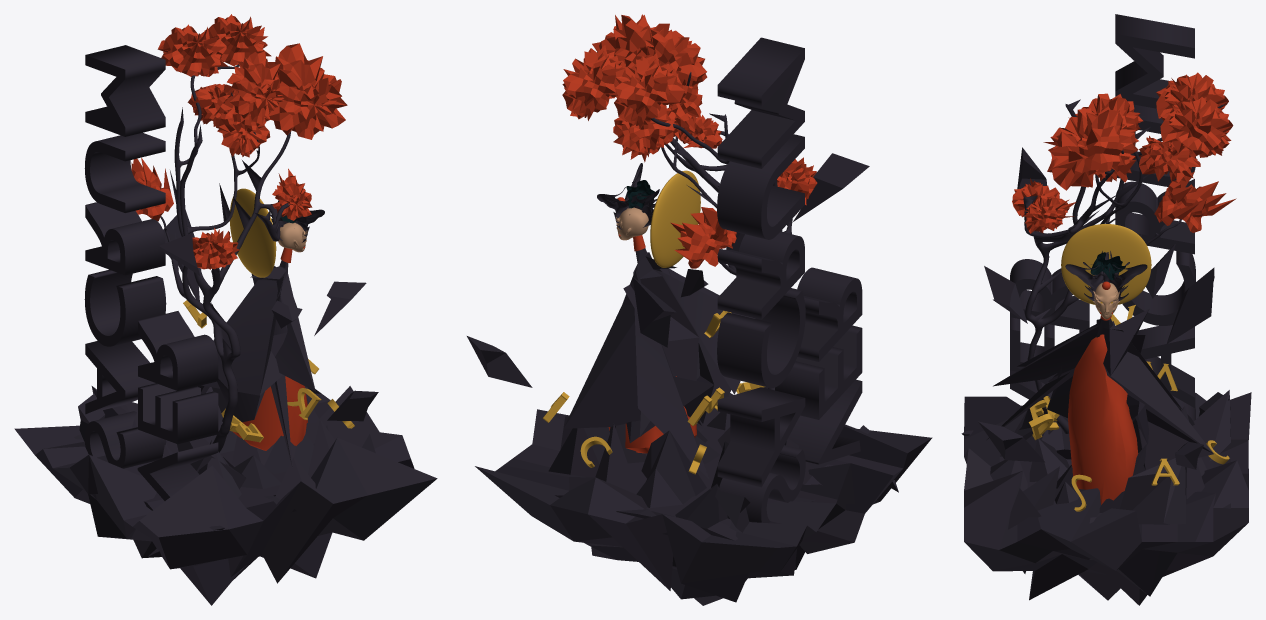
File: VERSACRUM FOR AR-Animation.glb
3 renders of one model, left to right at view 1: azimuth 30°, elevation 25°; view 2: azimuth 150°, elevation 25°; view 3: azimuth 270°, elevation 25°, orthographic. The views are drawn at different scales.
Visible parts, largest first — view 1: Land.001, Text.001, Tree, Body, Gold, Head, Cube.003, Cube.002, Cube.007, Cube.008; view 2: Text.001, Land.001, Tree, Body, Gold, Head, Cube.007, Cube.008, Cube.003, Cube.004; view 3: Land.001, Tree, Body, Text.001, Gold, Head, Cube.008, Cube.002, Cube.001, Cube.007, Cube.006, Cube.003 (+1 smaller).
Boxes of the visible parts, x1,y1,x2,y2 form: Land.001: (14,386,437,605); Text.001: (84,45,218,500); Tree: (131,14,347,489); Body: (197,247,315,467); Gold: (229,188,276,277); Head: (268,200,324,252); Cube.003: (314,281,366,335); Cube.002: (327,390,378,421); Cube.007: (159,233,199,275); Cube.008: (163,209,199,301); Text.001: (717,37,862,523); Land.001: (475,387,932,605); Tree: (562,14,817,390); Body: (563,235,755,478); Gold: (650,170,700,267); Head: (597,163,659,240); Cube.007: (793,153,869,221); Cube.008: (632,277,676,347); Cube.003: (467,336,532,387); Cube.004: (710,488,750,532); Land.001: (964,390,1251,605); Tree: (1012,72,1236,459); Body: (986,308,1213,504); Text.001: (1010,14,1195,435); Gold: (1061,224,1151,304); Head: (1065,251,1147,319); Cube.008: (1166,267,1214,343); Cube.002: (978,421,1044,462); Cube.001: (984,266,1027,323); Cube.007: (1017,147,1047,188); Cube.006: (1145,243,1175,298); Cube.003: (1175,441,1203,469).
Bounding box in the file's own units: 7.45 × 12.01 × 5.86.
